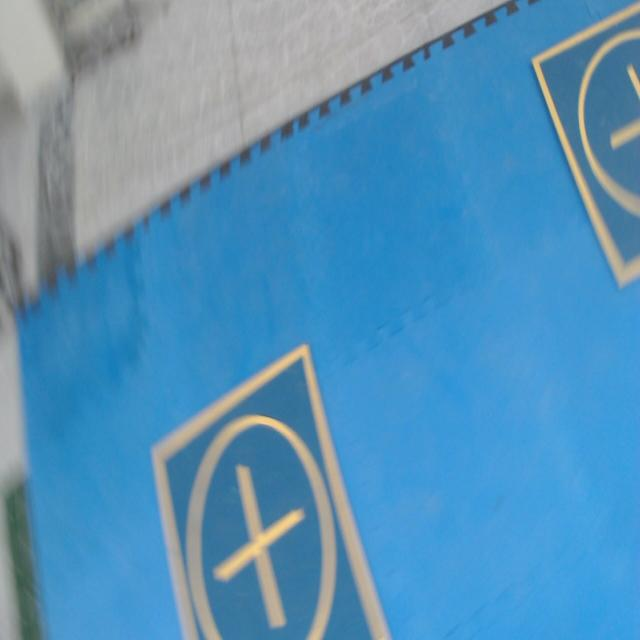base_pouso: (152, 341, 393, 639), (531, 2, 640, 289)
